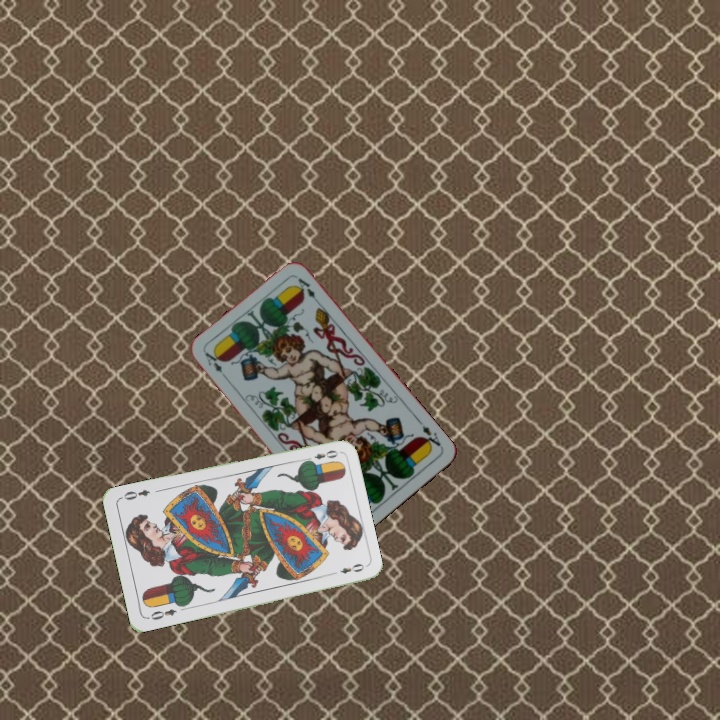EA: (201, 347, 231, 382), (418, 421, 445, 452)
EO: (301, 446, 341, 465), (143, 605, 179, 623)
